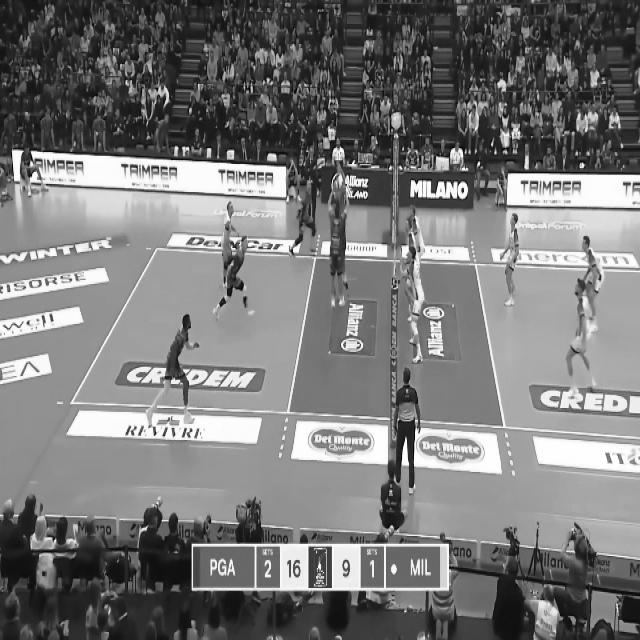volleyball court: (69, 245, 638, 435), (70, 247, 316, 412), (475, 262, 639, 438)
